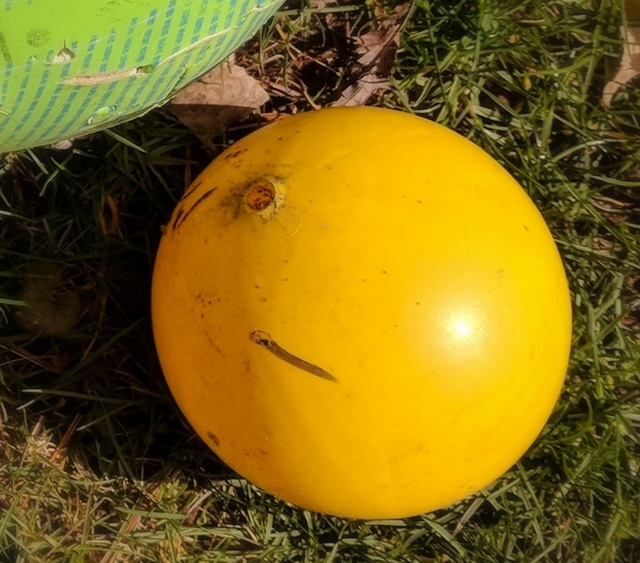ball: (152, 107, 574, 520)
